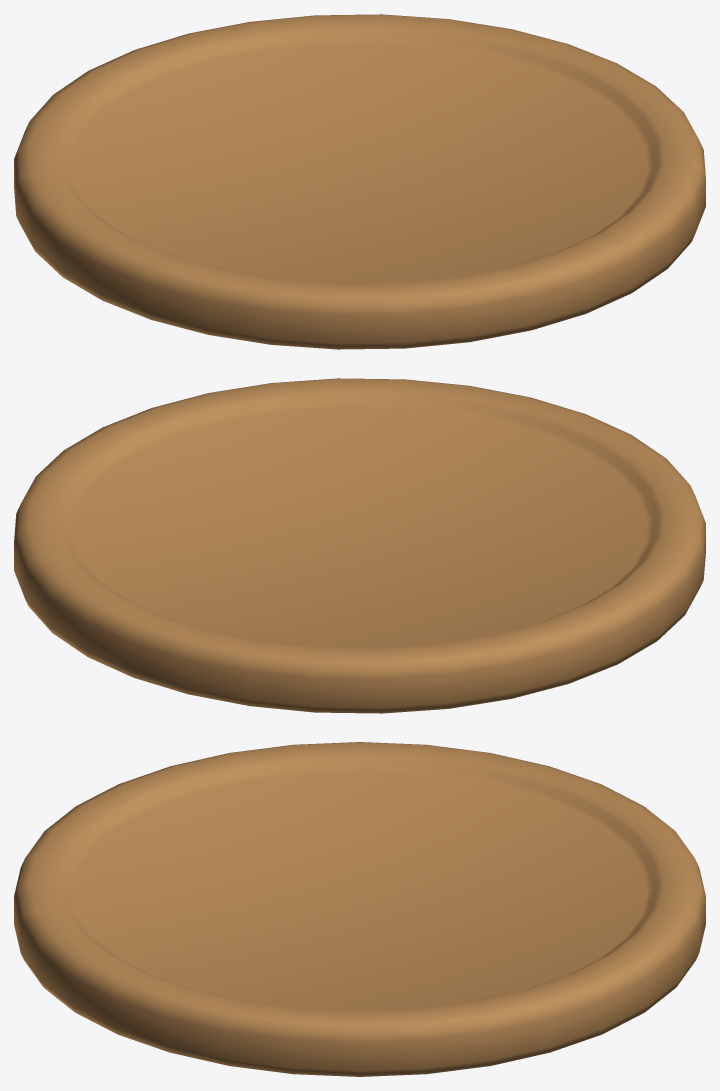
The model's file is oryzo-1-q4.obj.
3 views of the same model, one above another, from view 1: azimuth 30°, elevation 25°; view 2: azimuth 150°, elevation 25°; view 3: azimuth 270°, elevation 25° (orthographic).
Parts seen in each view (by area): view 1: ORYZO-1-q4; view 2: ORYZO-1-q4; view 3: ORYZO-1-q4.
Part boxes in pixels (x1=…): ORYZO-1-q4: x1=14, y1=14, x2=705, y2=349; ORYZO-1-q4: x1=14, y1=378, x2=705, y2=713; ORYZO-1-q4: x1=14, y1=742, x2=705, y2=1076.
Size of the model in its own units: 2 by 0.17 by 2.
